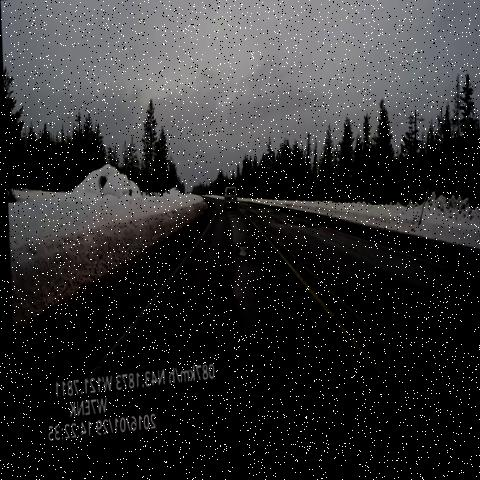pothole: (281, 356, 317, 408), (229, 235, 264, 285), (222, 208, 237, 232)
